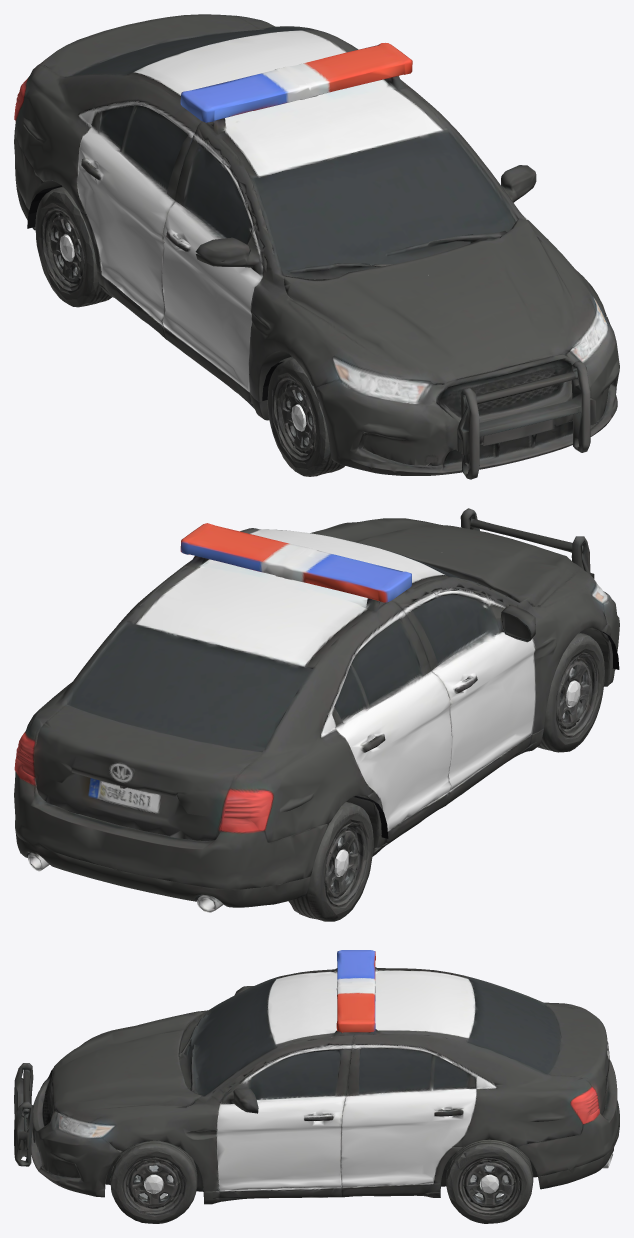
The model's file is car_police.glb.
3 views of the same model, one above another, from view 1: azimuth 30°, elevation 25°; view 2: azimuth 150°, elevation 25°; view 3: azimuth 270°, elevation 25° (orthographic). The views are drawn at different scales.
Parts seen in each view (by area): view 1: body, wheel_RR, wheel_FR; view 2: body, wheel_RR, wheel_FR; view 3: body, wheel_RL, wheel_FL.
Boxes of the visible parts, bbox=[...] form: body: bbox=[14, 14, 619, 479]; wheel_RR: bbox=[36, 191, 111, 307]; wheel_FR: bbox=[272, 366, 344, 476]; body: bbox=[14, 508, 619, 921]; wheel_RR: bbox=[320, 802, 378, 919]; wheel_FR: bbox=[556, 633, 610, 748]; body: bbox=[14, 950, 619, 1223]; wheel_RL: bbox=[441, 1139, 526, 1223]; wheel_FL: bbox=[104, 1144, 186, 1223].
Bounding box in the file's own units: 2.32 × 1.73 × 5.
2 materials, 1 textured.
